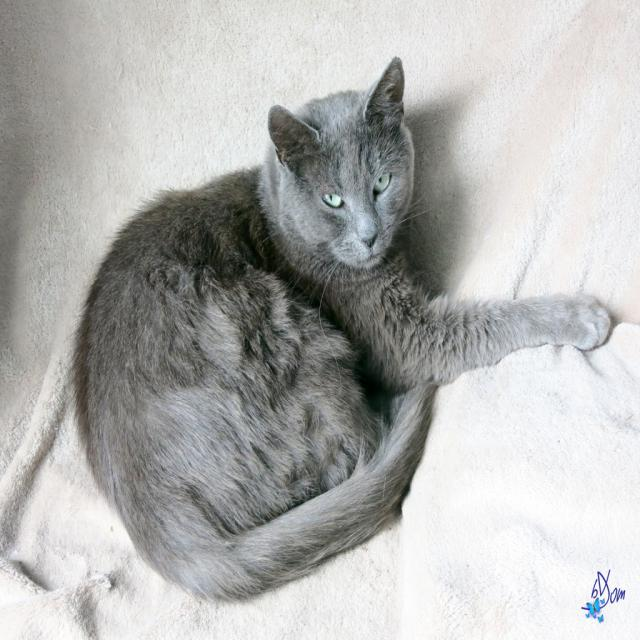Cat: (71, 53, 610, 604)
